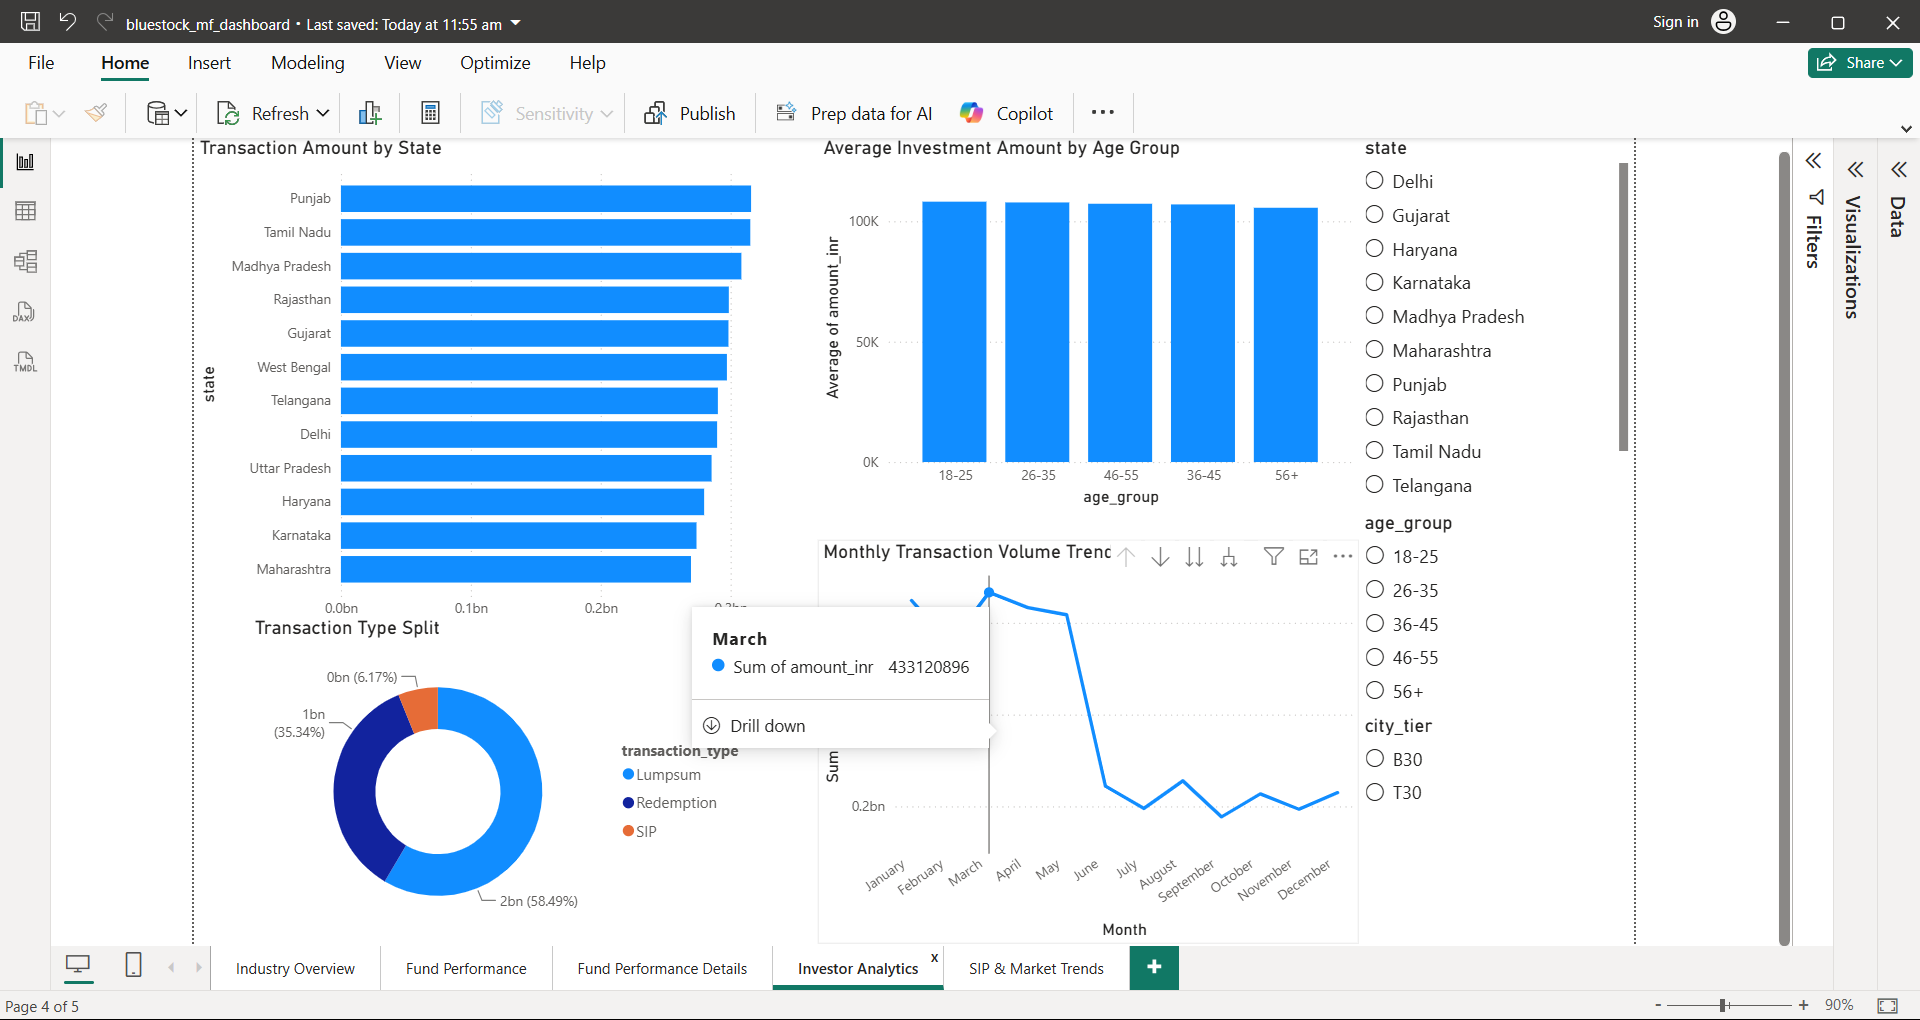

The page's visual inventory and layout, read from the dashboard file:
{"tool":"powerbi","page":{"name":"Investor Analytics","canvas":[1280,720],"ordinal":3},"visuals":[{"type":"clusteredBarChart","title":"Transaction Amount by State","fields":{"Category":["cleaned_investor_transactions.state"],"Y":["Sum(cleaned_investor_transactions.amount_inr)"]},"box":[0,0,554.9,452.3],"z":0},{"type":"donutChart","title":"Transaction Type Split","fields":{"Category":["cleaned_investor_transactions.transaction_type"],"Y":["Sum(cleaned_investor_transactions.amount_inr)"]},"box":[49.1,426.3,455.2,293.3],"z":1000},{"type":"clusteredColumnChart","title":"Average Investment Amount by Age Group","fields":{"Category":["cleaned_investor_transactions.age_group"],"Y":["Avg(cleaned_investor_transactions.amount_inr)"]},"box":[554.9,0,481.2,333.8],"z":2000},{"type":"lineChart","title":"Monthly Transaction Volume Trend","fields":{"Category":["cleaned_investor_transactions.transaction_date.Variation.Date Hierarchy.Month","cleaned_investor_transactions.transaction_date.Variation.Date Hierarchy.Day"],"Y":["Sum(cleaned_investor_transactions.amount_inr)"]},"box":[554.9,358.4,481.2,359.8],"z":3000},{"type":"listSlicer","fields":{"Values":["cleaned_investor_transactions.state"]},"box":[1036,0,244,334],"z":4000},{"type":"listSlicer","fields":{"Values":["cleaned_investor_transactions.age_group"]},"box":[1036,333.4,244.3,179.8],"z":5000},{"type":"listSlicer","fields":{"Values":["cleaned_investor_transactions.city_tier"]},"box":[1036,513,244,205],"z":6000}]}

Visuals, with their boxes on the page's 1280x720 design canvas (x1, y1, x2, y2). These are canvas units, not pixel positions in the 1920x1020 screenshot, which may show the page scaled, cropped or inside an application window:
"Transaction Amount by State" clusteredBarChart: x1=0 y1=0 x2=555 y2=452
"Transaction Type Split" donutChart: x1=49 y1=426 x2=504 y2=720
"Average Investment Amount by Age Group" clusteredColumnChart: x1=555 y1=0 x2=1036 y2=334
"Monthly Transaction Volume Trend" lineChart: x1=555 y1=358 x2=1036 y2=718
listSlicer - cleaned_investor_transactions.state: x1=1036 y1=0 x2=1280 y2=334
listSlicer - cleaned_investor_transactions.age_group: x1=1036 y1=333 x2=1280 y2=513
listSlicer - cleaned_investor_transactions.city_tier: x1=1036 y1=513 x2=1280 y2=718
